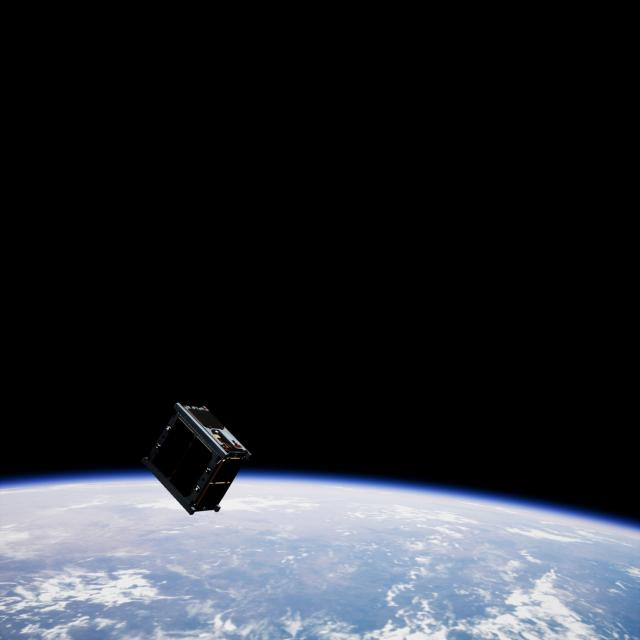medium_debris: (149, 394, 255, 508)
